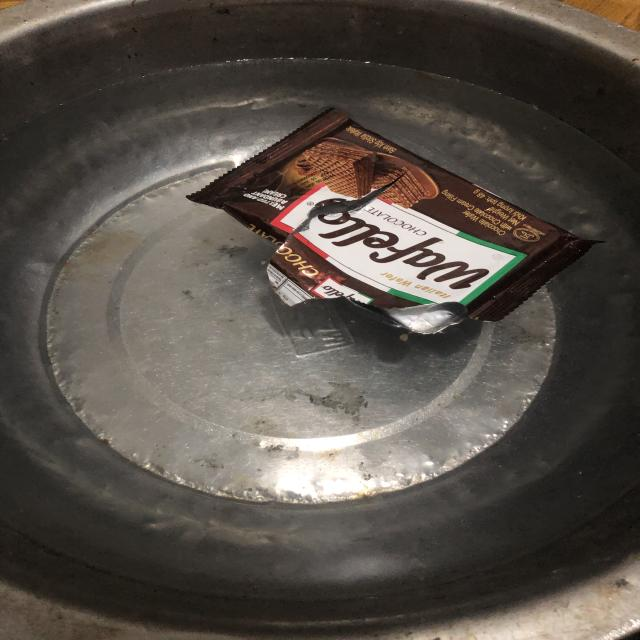Plastic Wrapper: (188, 108, 604, 335)
